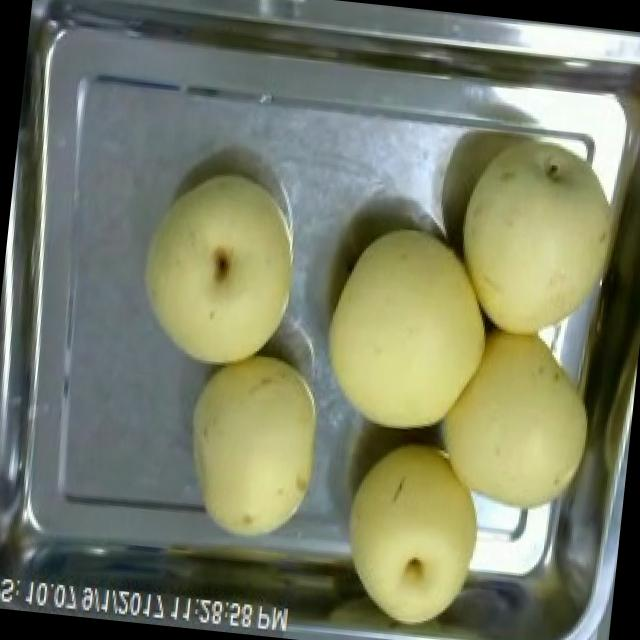Fruit: (420, 118, 640, 362), (304, 208, 514, 451), (418, 306, 616, 530), (125, 160, 312, 380), (322, 424, 500, 640), (168, 338, 339, 557)
